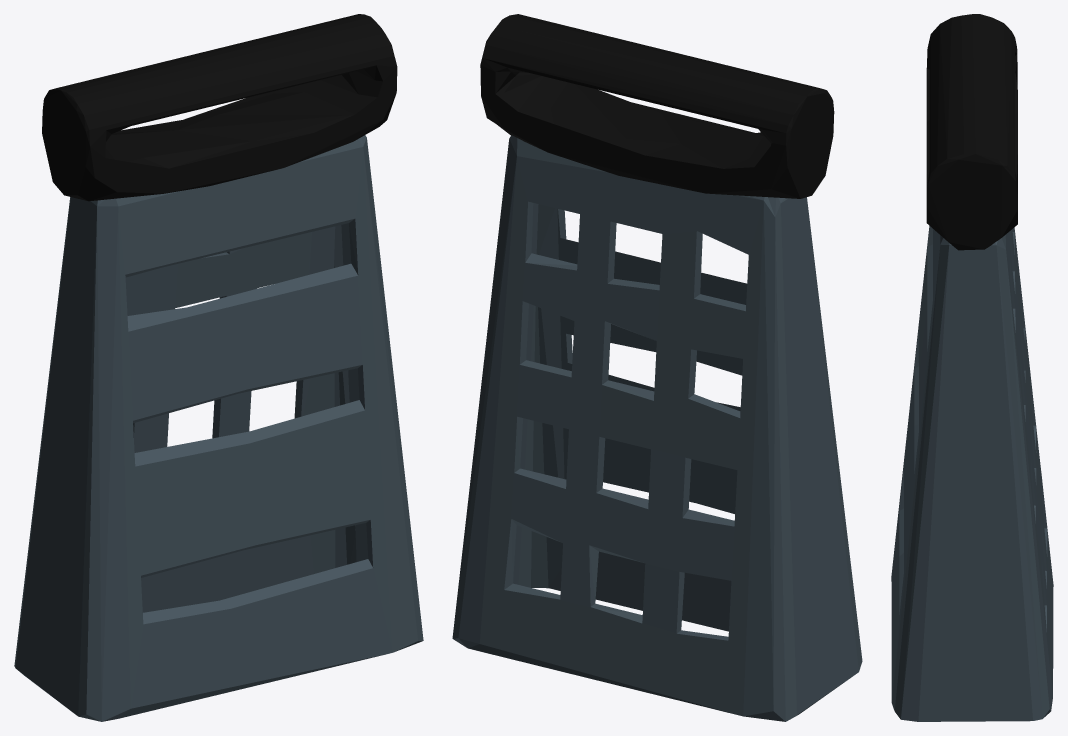
The model's file is Grater.fbx.
3 renders of one model, left to right at view 1: azimuth 30°, elevation 25°; view 2: azimuth 150°, elevation 25°; view 3: azimuth 270°, elevation 25°, orthographic. The views are drawn at different scales.
Parts seen in each view (by area): view 1: GraterLowPoly; view 2: GraterLowPoly; view 3: GraterLowPoly.
Boxes of the visible parts, x1,y1,x2,y2 form: GraterLowPoly: (14,14,423,721); GraterLowPoly: (452,14,862,721); GraterLowPoly: (891,14,1053,721).
Size of the model in its own units: 11.6 by 19.31 by 5.06.
